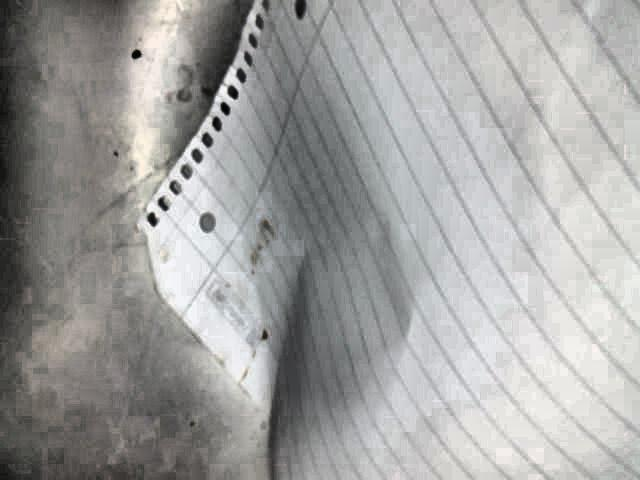Paper: (131, 0, 638, 479)
